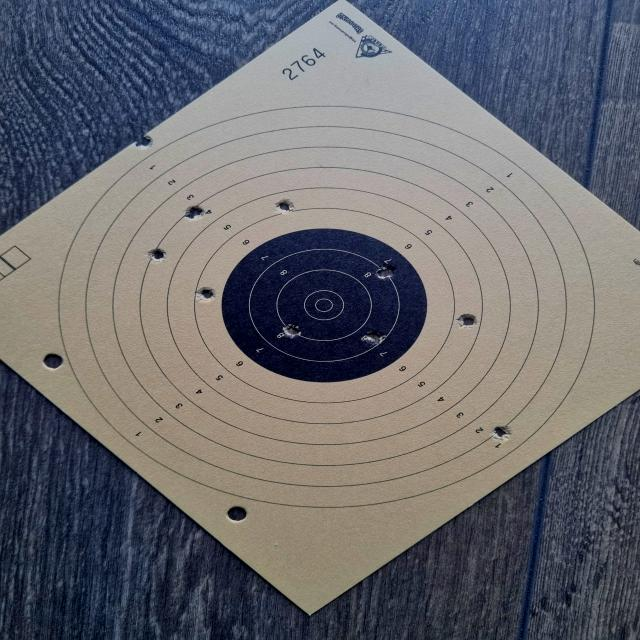0: (134, 136, 154, 148)
2: (493, 425, 511, 440)
4: (185, 206, 204, 219), (148, 249, 166, 262)
5: (456, 314, 477, 328)
6: (194, 286, 215, 301), (274, 200, 295, 213)
8: (365, 330, 386, 346), (381, 264, 394, 278), (375, 266, 386, 279)
9: (282, 323, 301, 338)
Target: (60, 104, 597, 509)
black_contour: (221, 228, 426, 380)
